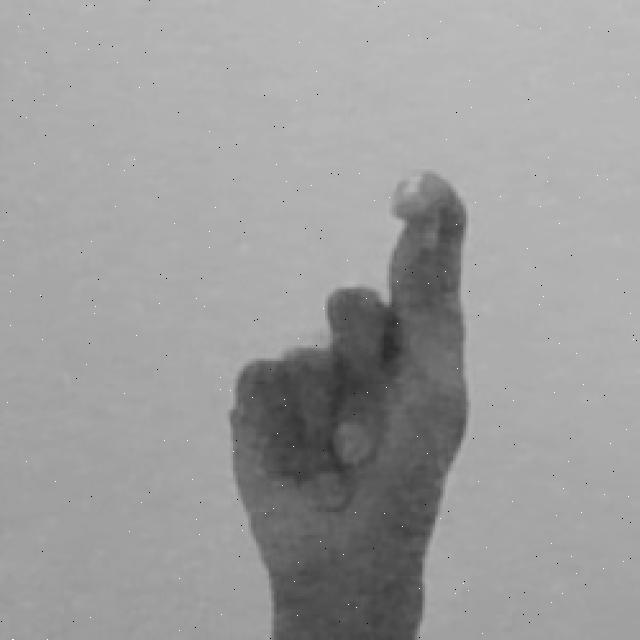T: (225, 164, 476, 640)
